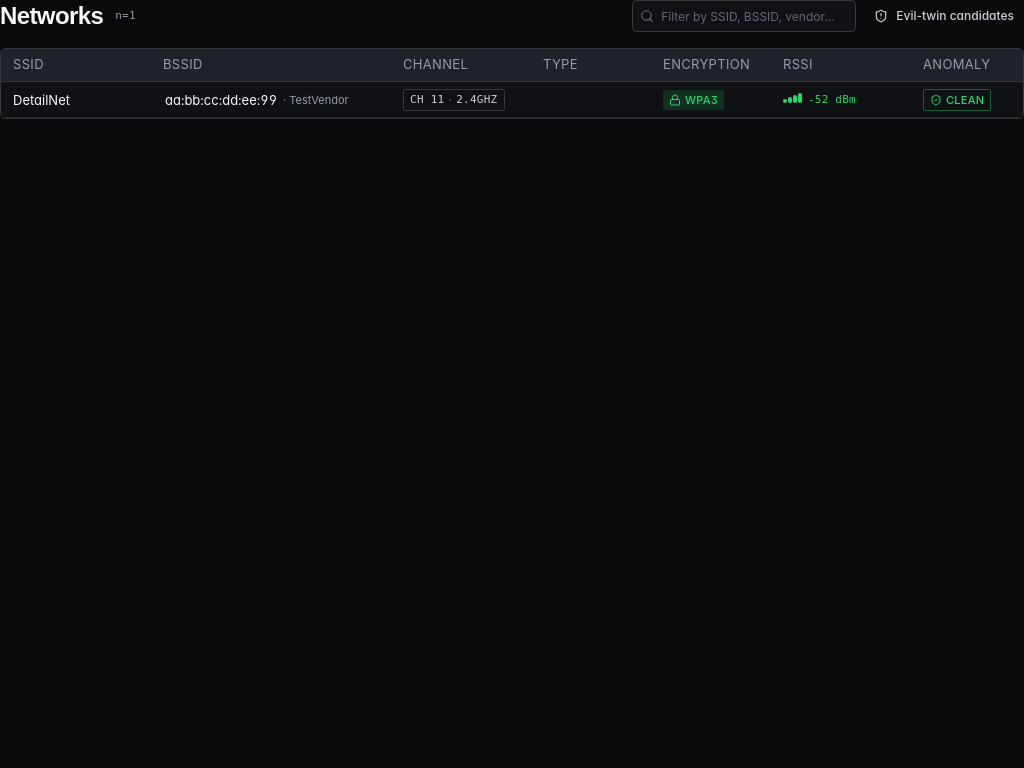
Test case: NetworksView › opens the AP detail drawer when a row is clicked
What coordinates should you click on to do the following:
click the text "DetailNet"
I would click on:
 (42, 100)
Its box is [13,90,70,110].
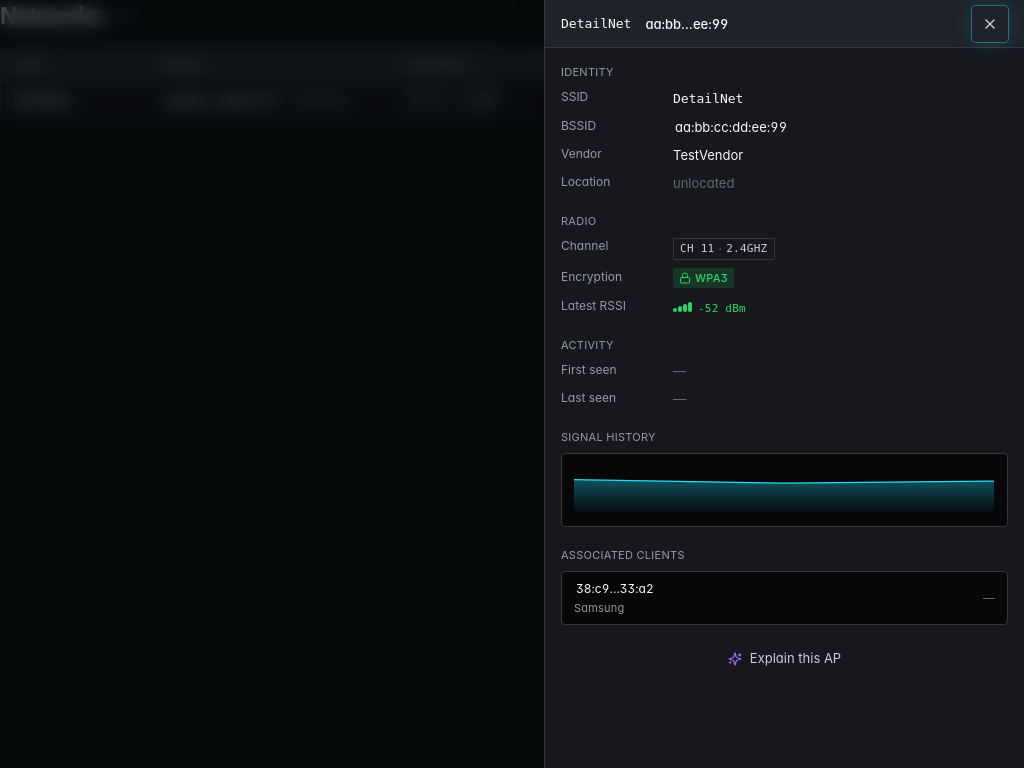
Expected: the dialog is shown
Expected: the heading "Signal history" is shown, [561,429,656,445]
